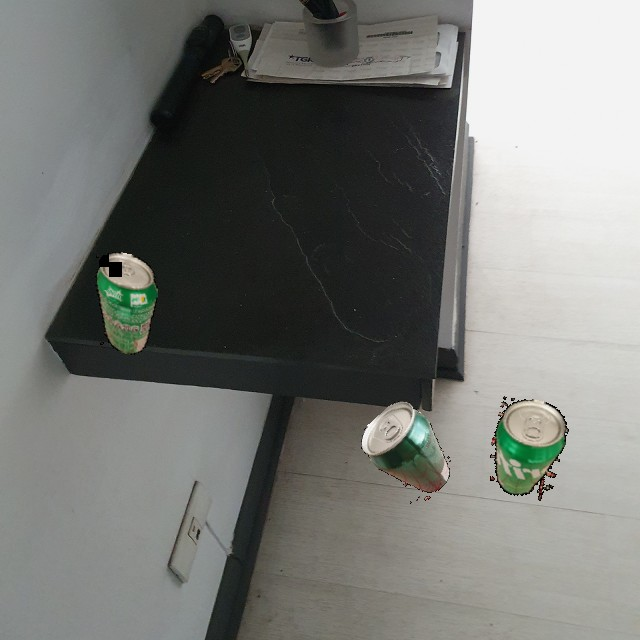schweppes: (353, 394, 468, 511)
sprite: (490, 391, 588, 514), (74, 247, 177, 360)
